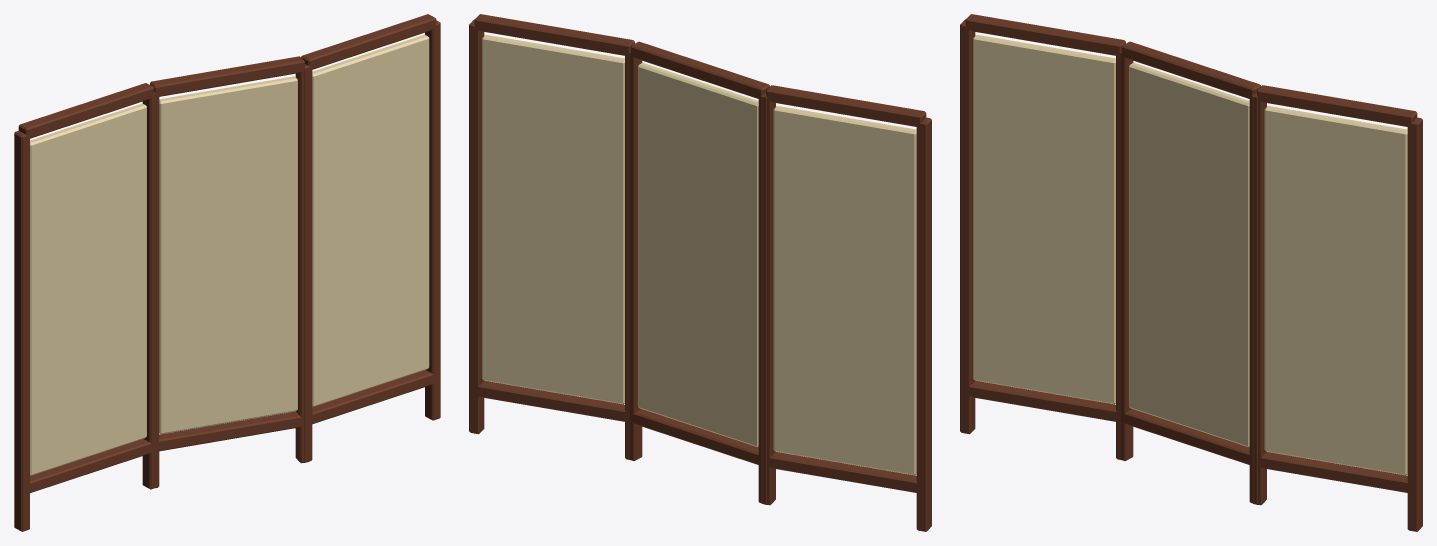
File: privacy_screen.glb
The picture shows the model from 3 angles, left to right: view 1: azimuth 30°, elevation 25°; view 2: azimuth 150°, elevation 25°; view 3: azimuth 330°, elevation 25°; orthographic projection. The views are drawn at different scales.
Visible parts, largest first — view 1: Fabric_001, Fabric_002, Fabric, Post, Post_005, Post_003, Post_001, Post_004, Rail_003, Rail_002, Rail_001, Post_002 (+3 smaller); view 2: Fabric, Fabric_002, Fabric_001, Post, Post_005, Post_001, Post_003, Post_002, Rail_001, Rail_005, Rail_004, Rail (+3 smaller); view 3: Fabric_002, Fabric, Fabric_001, Post_005, Post, Post_004, Post_002, Post_003, Rail_005, Rail_001, Rail, Rail_004 (+3 smaller).
Part boxes in pixels (left/top/right/bottom): Fabric_001: left=159, top=76, right=297, bottom=434; Fabric_002: left=312, top=34, right=429, bottom=407; Fabric: left=30, top=103, right=146, bottom=475; Post: left=14, top=130, right=29, bottom=531; Post_005: left=425, top=20, right=440, bottom=420; Post_003: left=295, top=64, right=310, bottom=463; Post_001: left=142, top=92, right=154, bottom=489; Post_004: left=304, top=64, right=312, bottom=462; Rail_003: left=150, top=56, right=304, bottom=96; Rail_002: left=156, top=411, right=303, bottom=451; Rail_001: left=18, top=83, right=153, bottom=138; Post_002: left=154, top=92, right=159, bottom=488; Fabric: left=773, top=106, right=916, bottom=475; Fabric_002: left=482, top=34, right=624, bottom=404; Fabric_001: left=638, top=62, right=758, bottom=447; Post: left=916, top=117, right=931, bottom=531; Post_005: left=469, top=19, right=484, bottom=434; Post_001: left=761, top=93, right=775, bottom=505; Post_003: left=630, top=51, right=642, bottom=460; Post_002: left=758, top=93, right=767, bottom=504; Rail_001: left=766, top=85, right=926, bottom=126; Rail_005: left=474, top=14, right=634, bottom=55; Rail_004: left=476, top=380, right=628, bottom=421; Rail: left=767, top=452, right=919, bottom=492; Fabric_002: left=1264, top=106, right=1407, bottom=475; Fabric: left=973, top=34, right=1115, bottom=404; Fabric_001: left=1129, top=62, right=1249, bottom=447; Post_005: left=1407, top=117, right=1422, bottom=531; Post: left=960, top=19, right=975, bottom=434; Post_004: left=1252, top=94, right=1266, bottom=505; Post_002: left=1121, top=51, right=1133, bottom=460; Post_003: left=1249, top=93, right=1258, bottom=504; Rail_005: left=1257, top=85, right=1417, bottom=126; Rail_001: left=965, top=14, right=1125, bottom=55; Rail: left=966, top=380, right=1119, bottom=421; Rail_004: left=1258, top=452, right=1408, bottom=492.
Bounding box in the file's own units: 1.94 × 1.73 × 0.1474.
